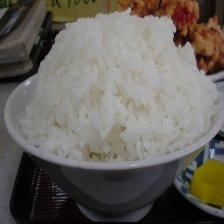rice: (11, 7, 221, 164)
